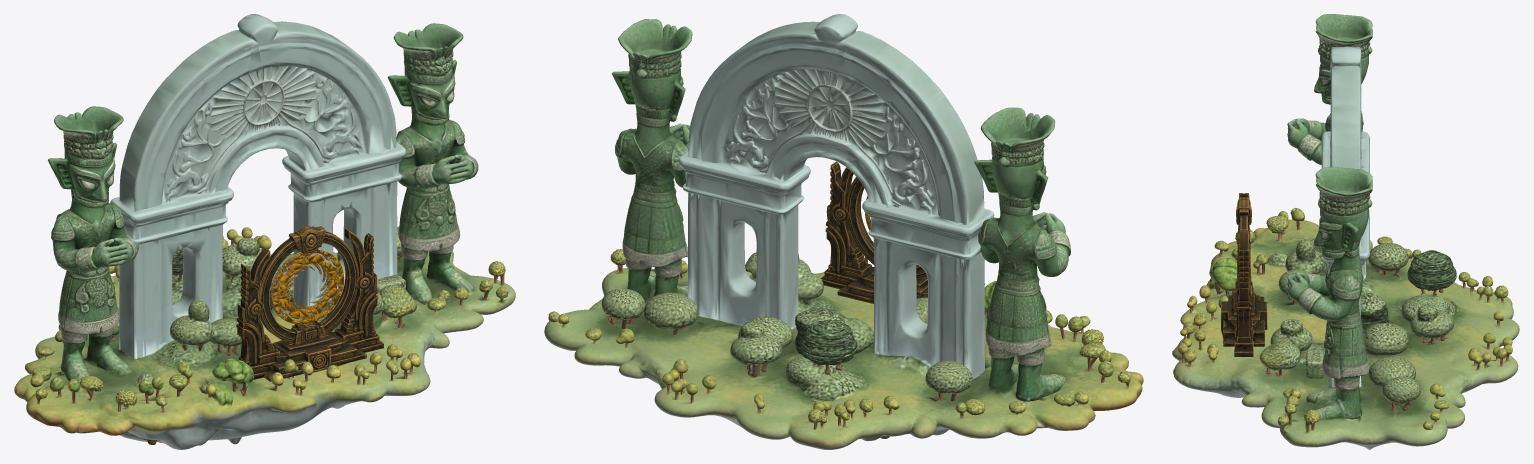
Rendered from 15-civilization-gate.glb.
The picture shows the model from 3 angles, left to right: view 1: azimuth 30°, elevation 25°; view 2: azimuth 150°, elevation 25°; view 3: azimuth 270°, elevation 25°; orthographic projection. The views are drawn at different scales.
Parts seen in each view (by area): view 1: tripo_node_bbcc85b6-3ad8-422b-b677-e2766067ee58, Meshy_AI_Aureate_Vortex_Gate_0817200025_texture, Meshy_AI_Golden_Vortex_Emblem_0817192120_texture; view 2: tripo_node_bbcc85b6-3ad8-422b-b677-e2766067ee58, Meshy_AI_Aureate_Vortex_Gate_0817200025_texture; view 3: tripo_node_bbcc85b6-3ad8-422b-b677-e2766067ee58, Meshy_AI_Aureate_Vortex_Gate_0817200025_texture.
Boxes of the visible parts, box(x1,y1,x2,y2) form: tripo_node_bbcc85b6-3ad8-422b-b677-e2766067ee58: box(14, 14, 515, 449); Meshy_AI_Aureate_Vortex_Gate_0817200025_texture: box(236, 226, 383, 381); Meshy_AI_Golden_Vortex_Emblem_0817192120_texture: box(270, 249, 344, 324); tripo_node_bbcc85b6-3ad8-422b-b677-e2766067ee58: box(544, 14, 1143, 449); Meshy_AI_Aureate_Vortex_Gate_0817200025_texture: box(821, 161, 927, 303); tripo_node_bbcc85b6-3ad8-422b-b677-e2766067ee58: box(1172, 14, 1519, 449); Meshy_AI_Aureate_Vortex_Gate_0817200025_texture: box(1221, 193, 1267, 356).
Size of the model in its own units: 6.5 by 4.94 by 4.33.
Materials: 3 (3 with a texture image).
